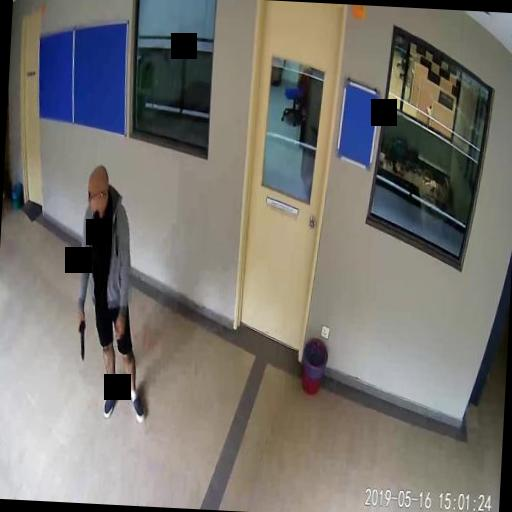Handgun: (74, 315, 84, 357)
